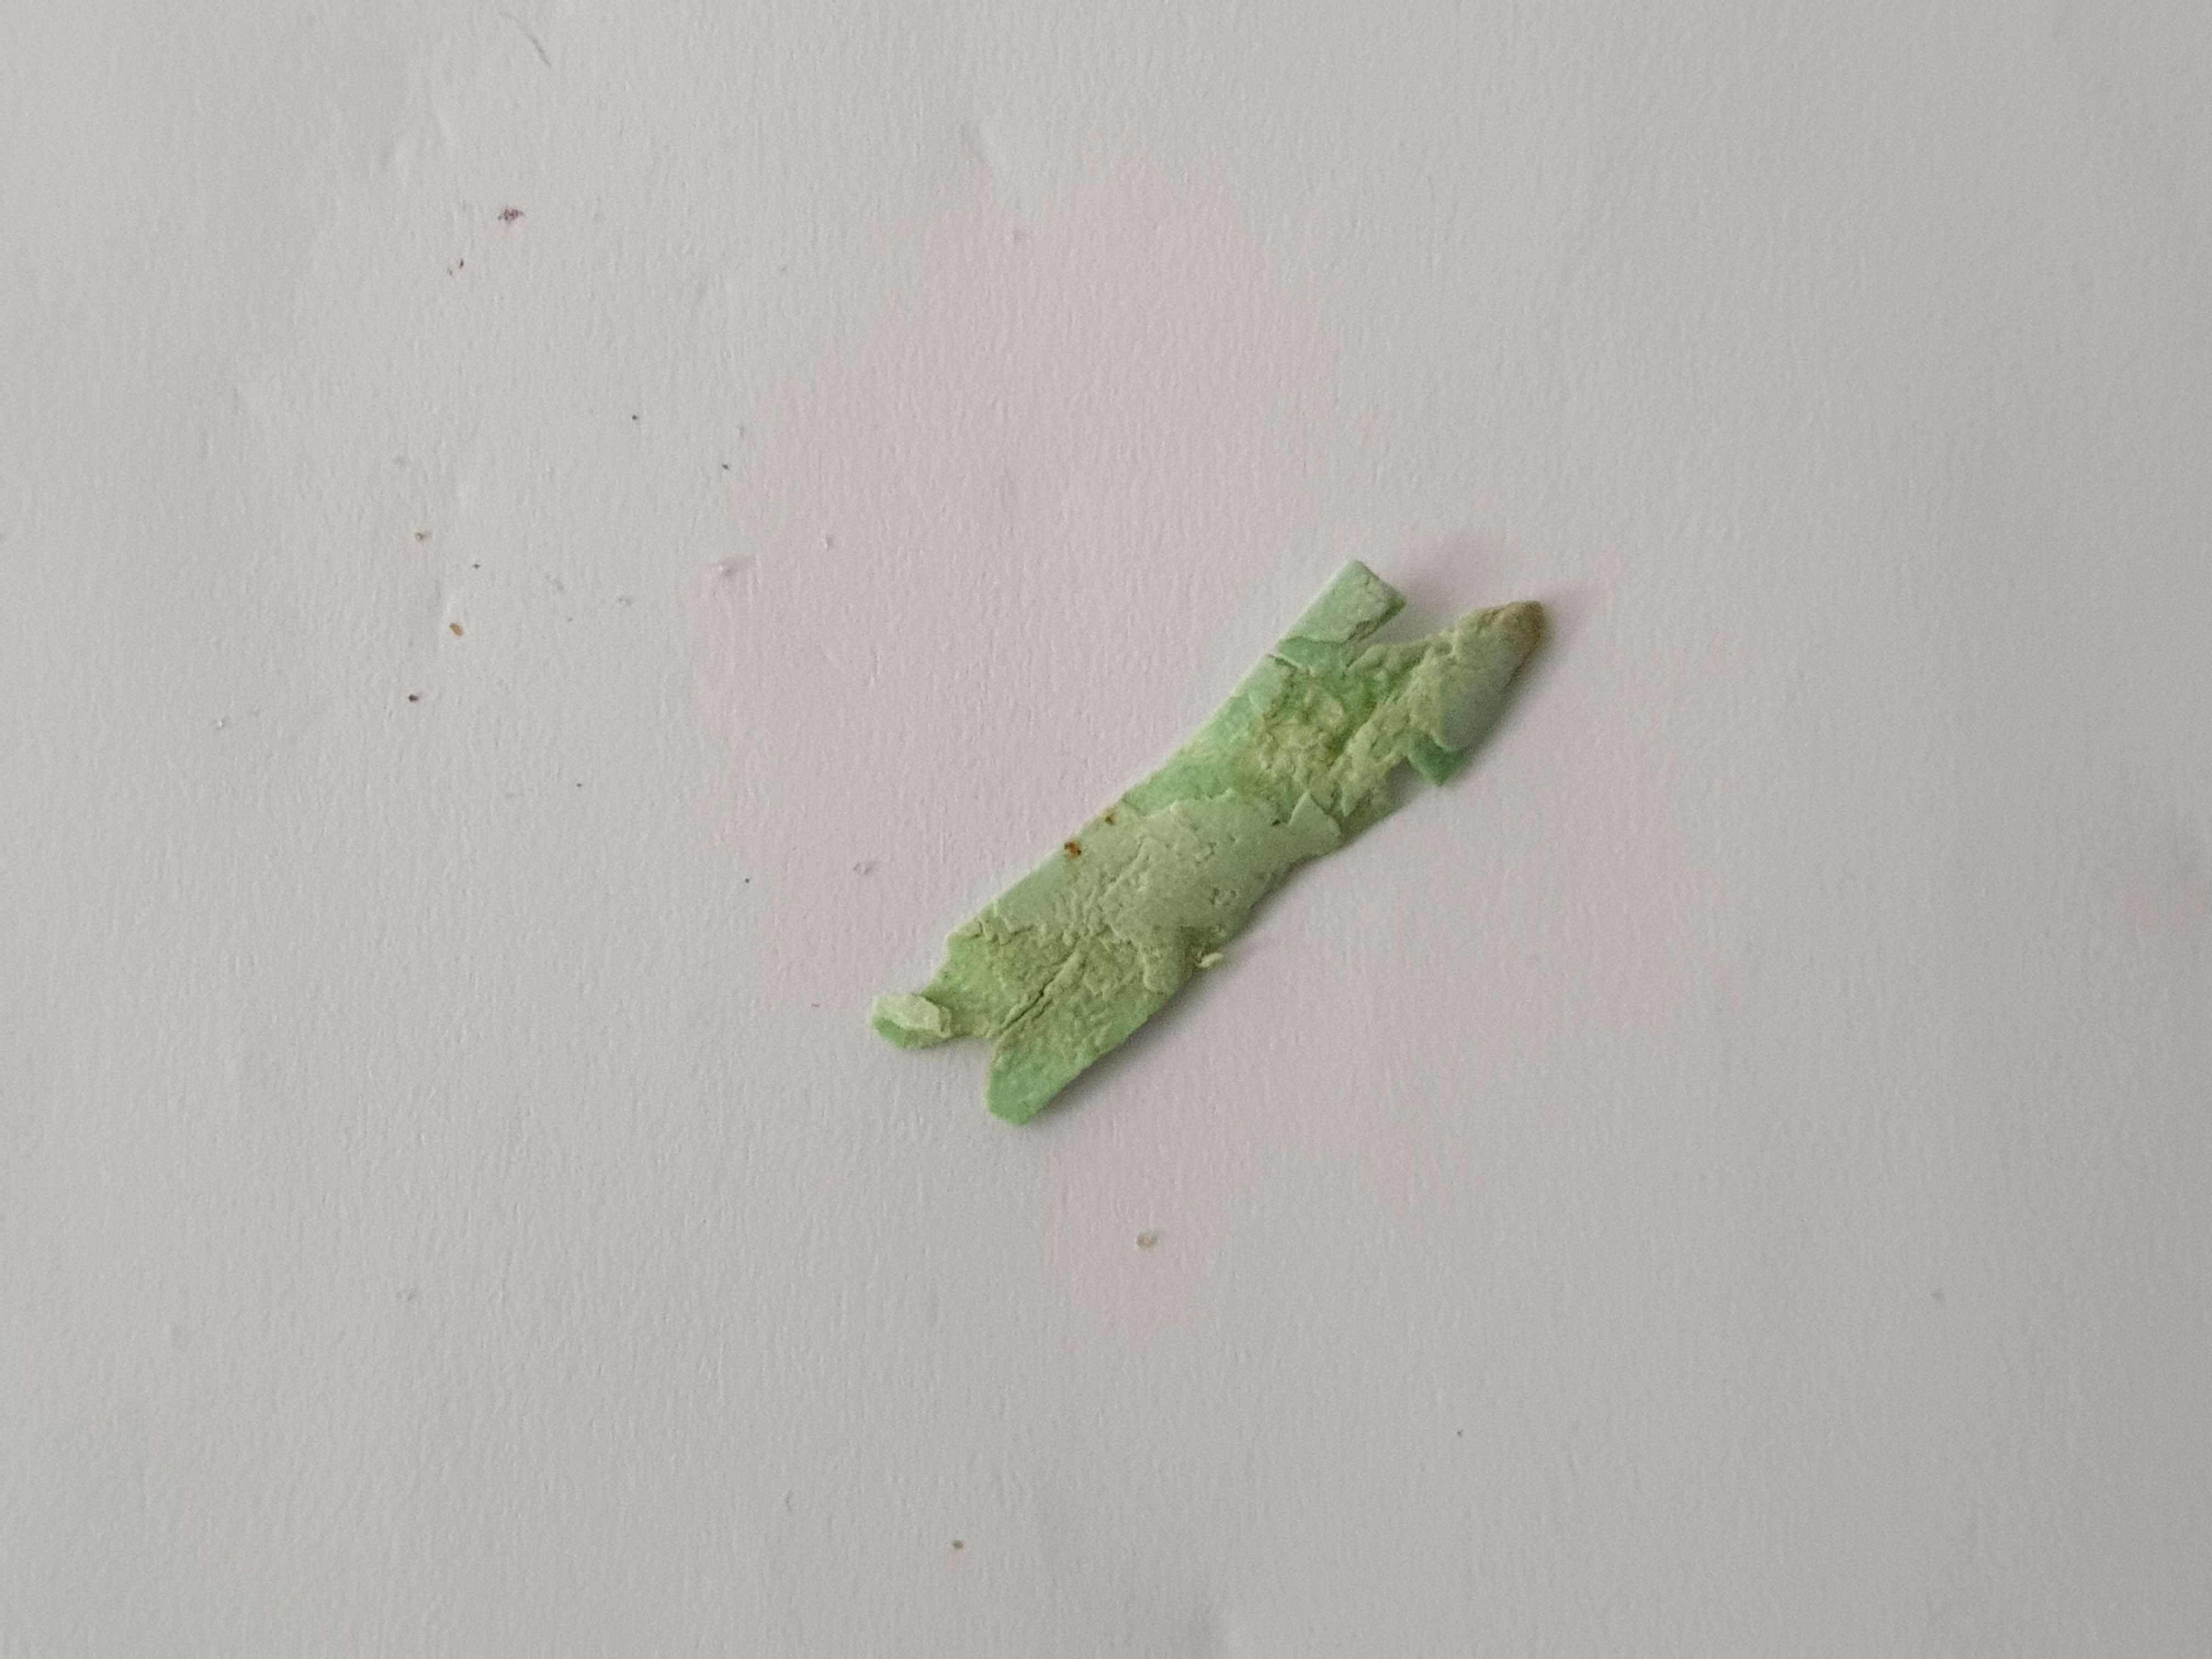plastic: (860, 538, 1587, 1143)
